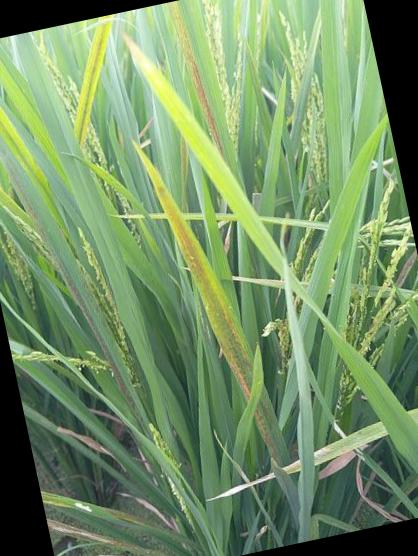Leaf Streak: (0, 141, 151, 441), (133, 142, 254, 402), (166, 0, 223, 154), (74, 14, 114, 145), (313, 422, 387, 465), (254, 387, 291, 469), (206, 474, 276, 501), (283, 460, 302, 475)
